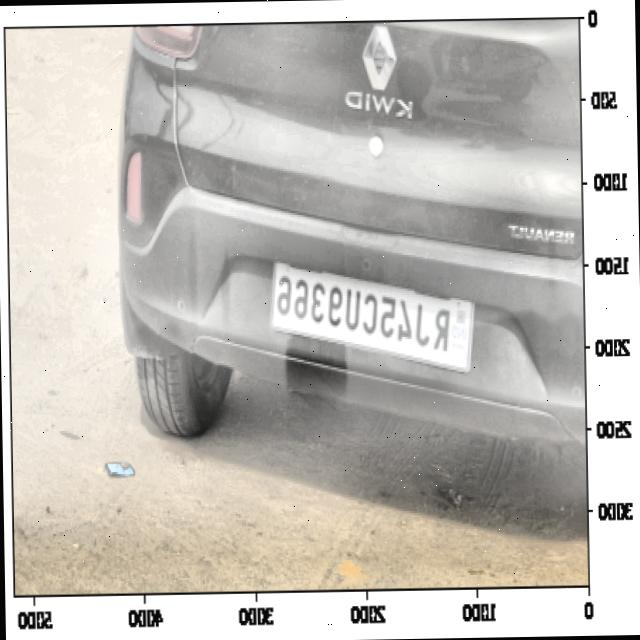license_plate: (273, 268, 458, 361)
